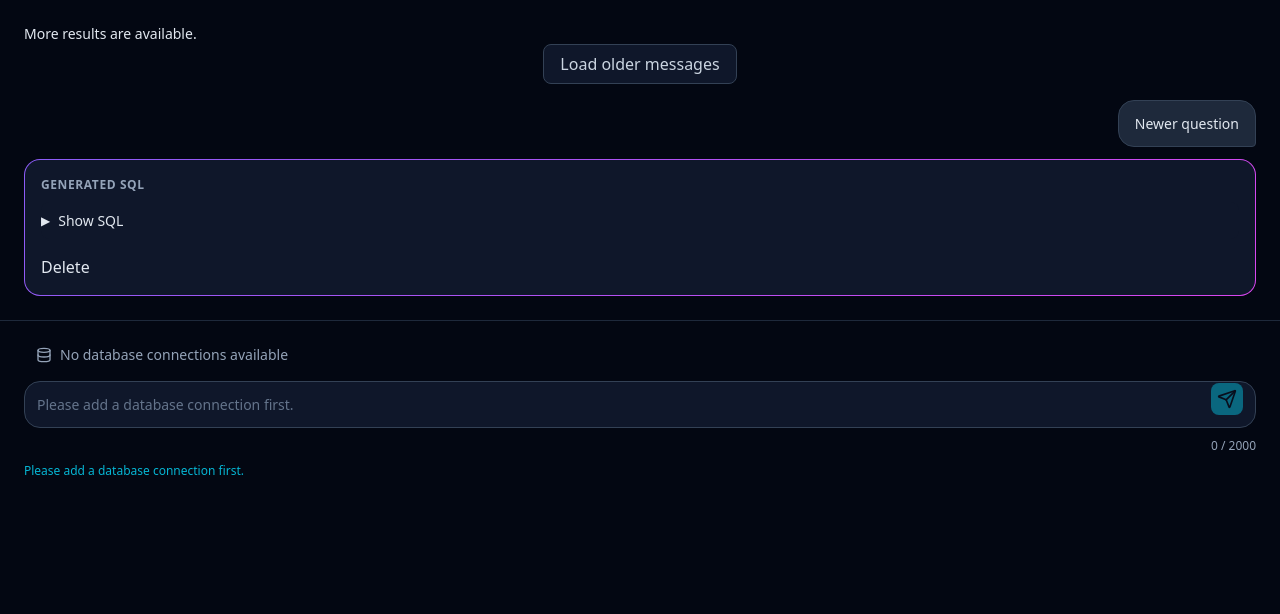
Test: WorkspacePage duplicate turn regression › loads older attempts explicitly in chronological order in en
(page scrolled)
Check: the element with class "workspace-conversation" is shown, box [0, 0, 1279, 320]
Click the button "Load older messages". click: coordinates (640, 64)
box: [543, 44, 737, 84]
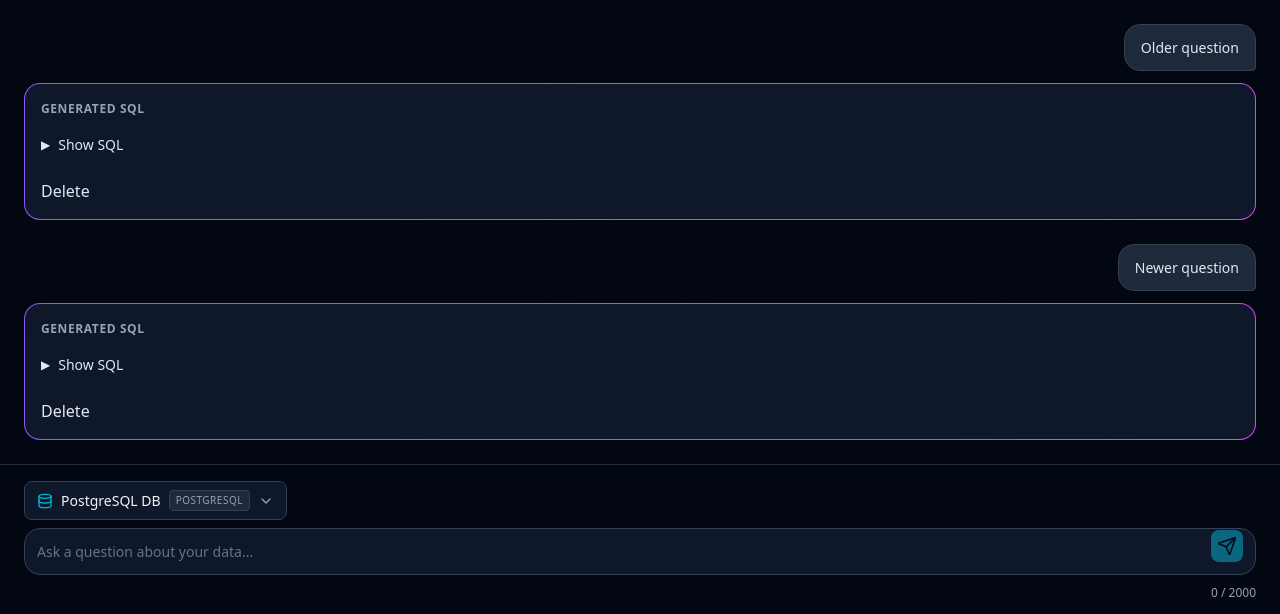
Check: the elements with test id "user-bubble" read "Older question", "Newer question", in this order, box [1124, 24, 1256, 71]; [1118, 244, 1256, 291]
